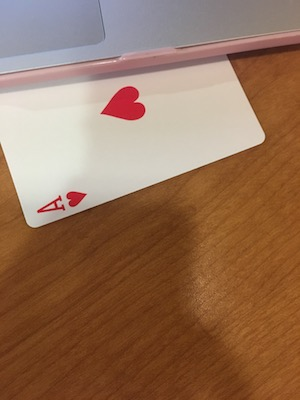AceOfHearts: (1, 53, 267, 225)
